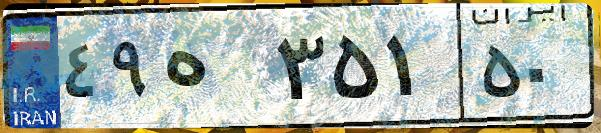0: (525, 38, 570, 115)
1: (385, 28, 445, 110)
3: (270, 28, 330, 110)
4: (57, 26, 110, 100)
5: (330, 28, 385, 110), (475, 38, 525, 113)
9: (110, 28, 158, 98)
ه: (158, 20, 270, 120)
